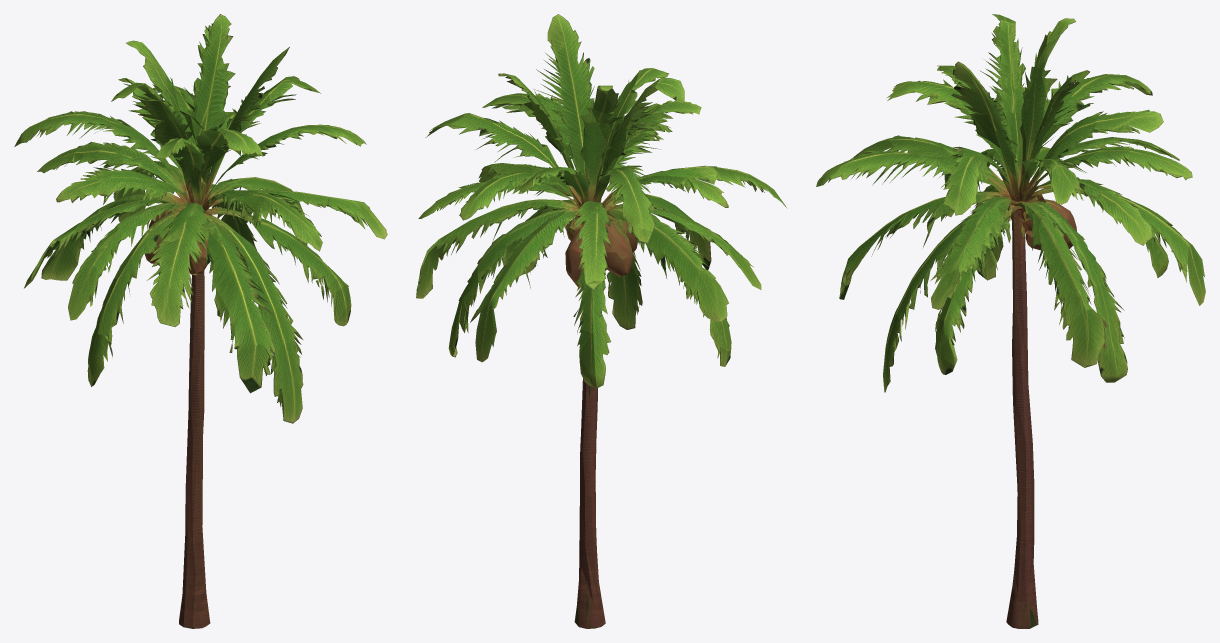
Rendered from coconut-palm.glb.
3 renders of one model, left to right at view 1: azimuth 30°, elevation 25°; view 2: azimuth 150°, elevation 25°; view 3: azimuth 270°, elevation 25°, orthographic. The views are drawn at different scales.
Bounding box in the file's own units: 1.04 × 1.89 × 1.13.
1 material, 1 textured.
